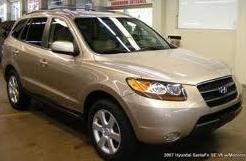front_view: (125, 56, 246, 140)
headlight: (117, 72, 192, 104)
side_glass: (18, 15, 87, 60)
